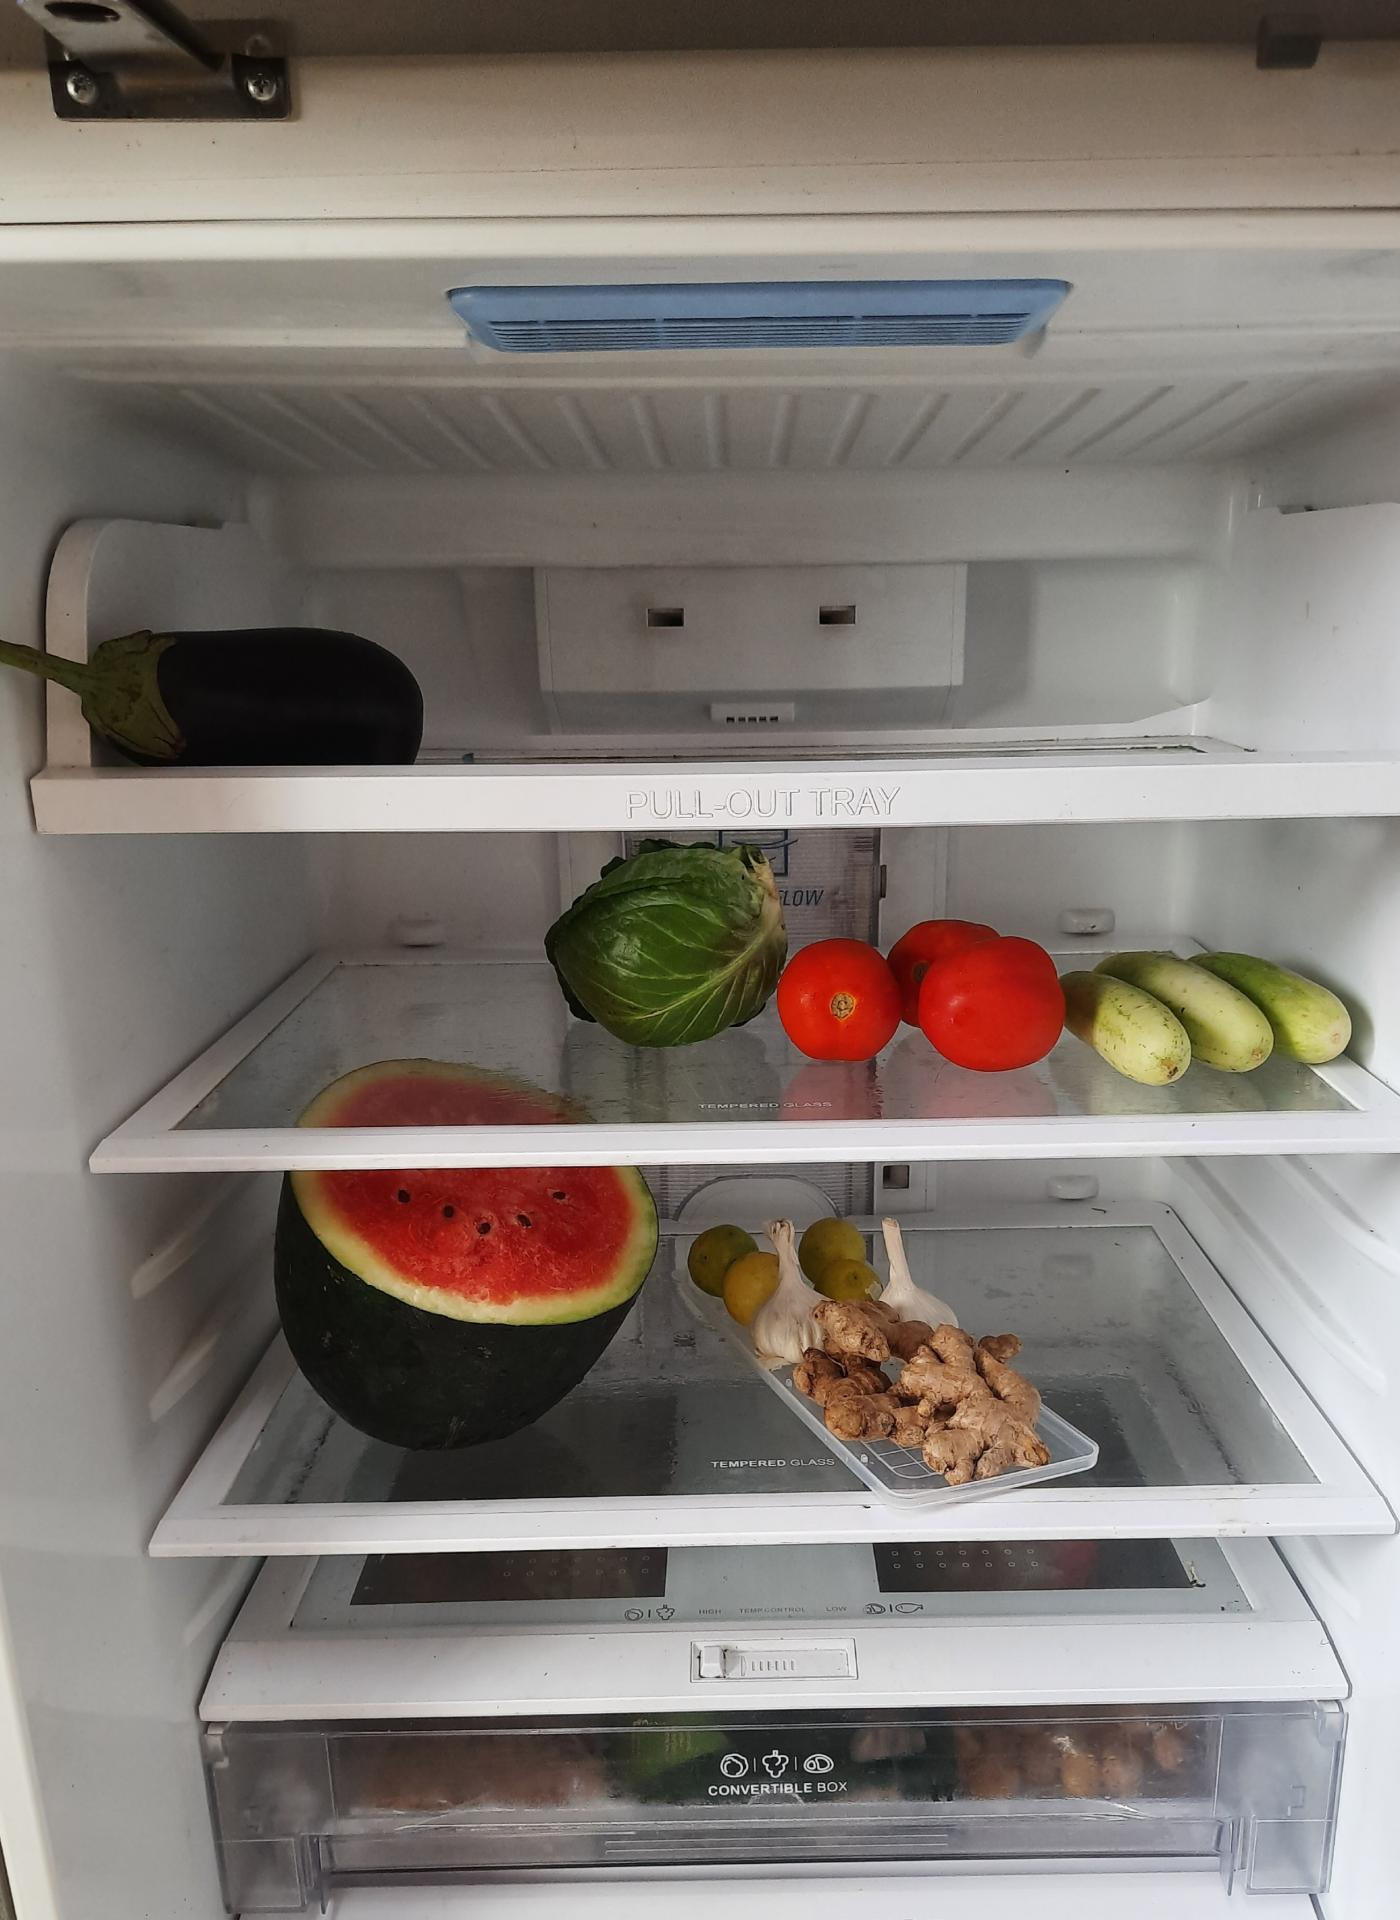brinjal: (39, 602, 435, 765)
cabbage: (541, 836, 781, 1051)
carrots: (766, 1303, 1054, 1474)
cucumber: (1084, 950, 1360, 1082)
lemon: (698, 1219, 790, 1322), (799, 1215, 877, 1297)
tomato: (783, 908, 1066, 1066)
watermelon: (262, 1058, 653, 1450)
